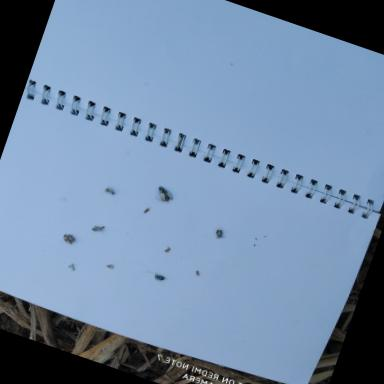pbw: (192, 268, 204, 278), (162, 245, 172, 255)
